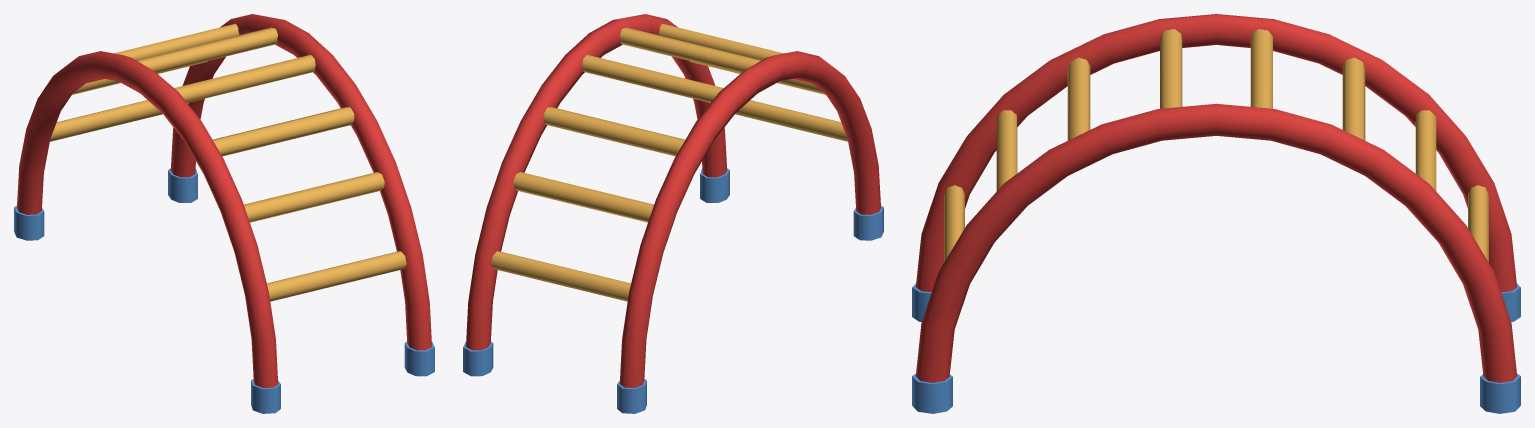
The model's file is ClimbingFrame_07.fbx.
The picture shows the model from 3 angles, left to right: view 1: azimuth 30°, elevation 25°; view 2: azimuth 150°, elevation 25°; view 3: azimuth 270°, elevation 25°; orthographic projection. The views are drawn at different scales.
Parts seen in each view (by area): view 1: ClimbingFrame_07; view 2: ClimbingFrame_07; view 3: ClimbingFrame_07.
Boxes of the visible parts, x1,y1,x2,y2 form: ClimbingFrame_07: (14, 14, 434, 413); ClimbingFrame_07: (463, 14, 883, 413); ClimbingFrame_07: (912, 14, 1520, 413).
Bounding box in the file's own units: 0.9444 × 1.26 × 2.31.
